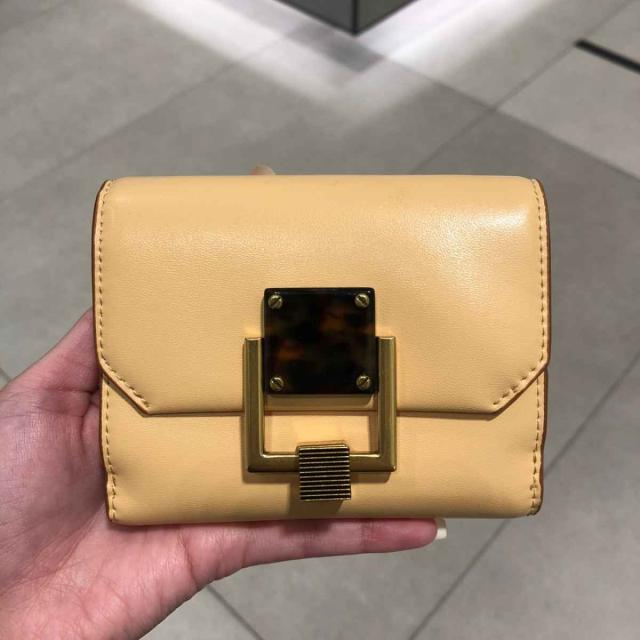Handbag: (95, 175, 546, 519)
